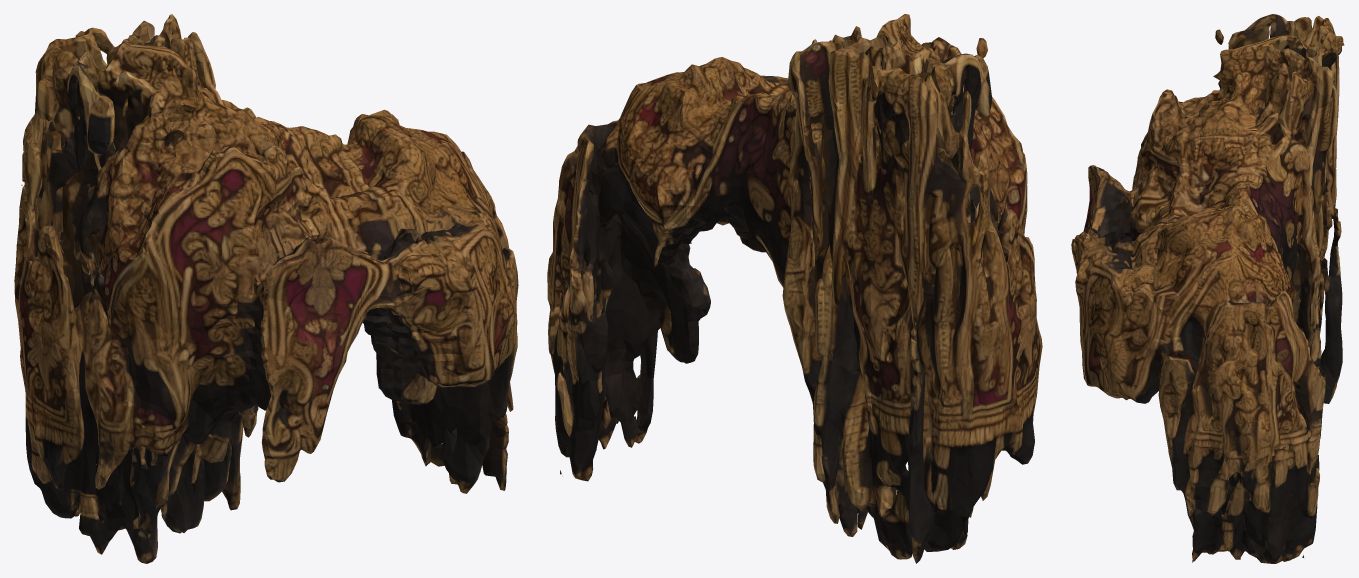
File: elephant_hunyuan3d_2_1_textured.glb
3 renders of one model, left to right at view 1: azimuth 30°, elevation 25°; view 2: azimuth 150°, elevation 25°; view 3: azimuth 270°, elevation 25°, orthographic. The views are drawn at different scales.
Visible parts, largest first — view 1: textured_mesh.obj; view 2: textured_mesh.obj; view 3: textured_mesh.obj.
Boxes of the visible parts, x1,y1,x2,y2 form: textured_mesh.obj: (14, 14, 518, 563); textured_mesh.obj: (547, 14, 1042, 563); textured_mesh.obj: (1071, 14, 1344, 563).
Bounding box in the file's own units: 1.94 × 1.98 × 1.2.
Materials: 1 (1 with a texture image).
